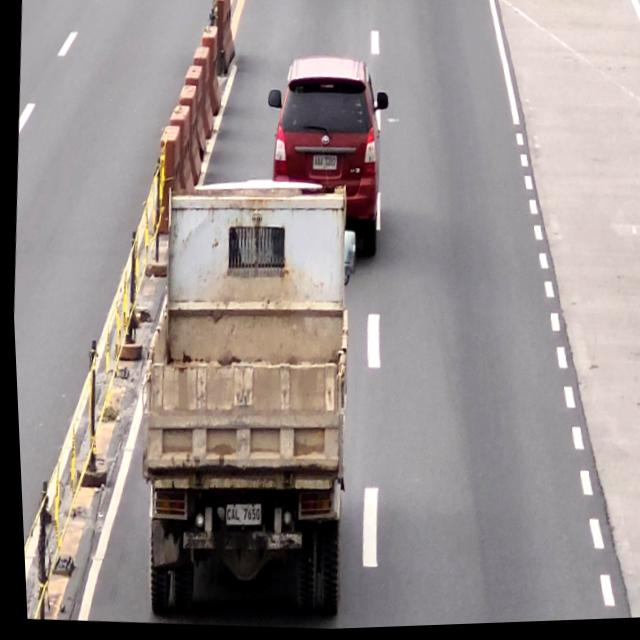License-Plate: (219, 503, 257, 529), (308, 155, 336, 176)
Truck: (116, 171, 369, 637), (254, 52, 396, 265)
